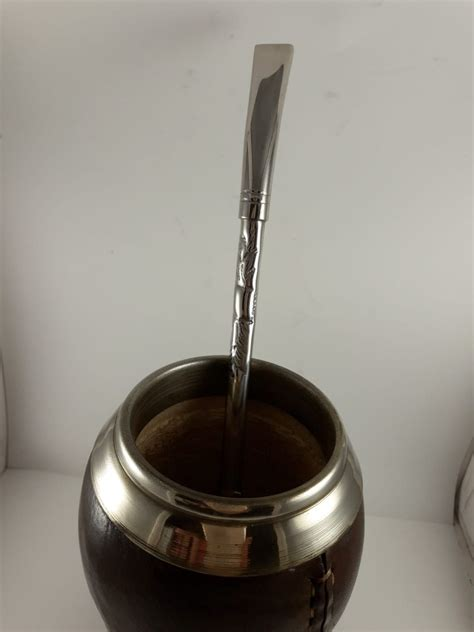cuero: (71, 457, 368, 632)
